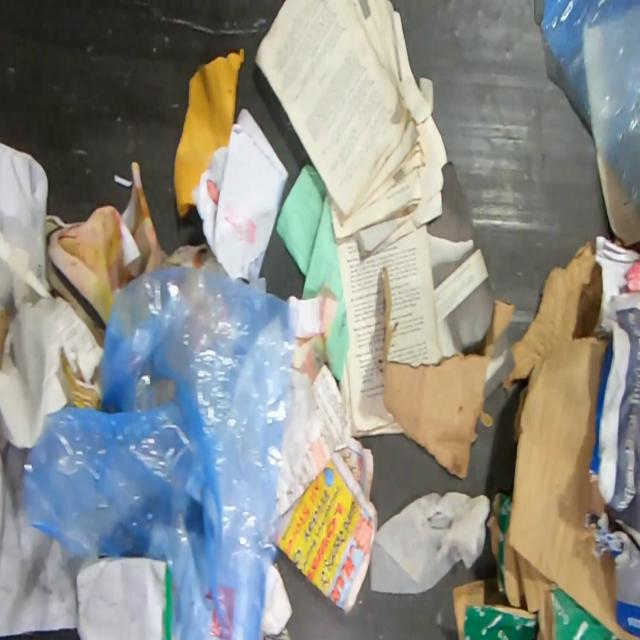cardboard: (502, 236, 640, 639), (380, 263, 518, 482), (452, 491, 624, 639)
soft_plastic: (18, 261, 304, 639), (537, 0, 640, 235)
